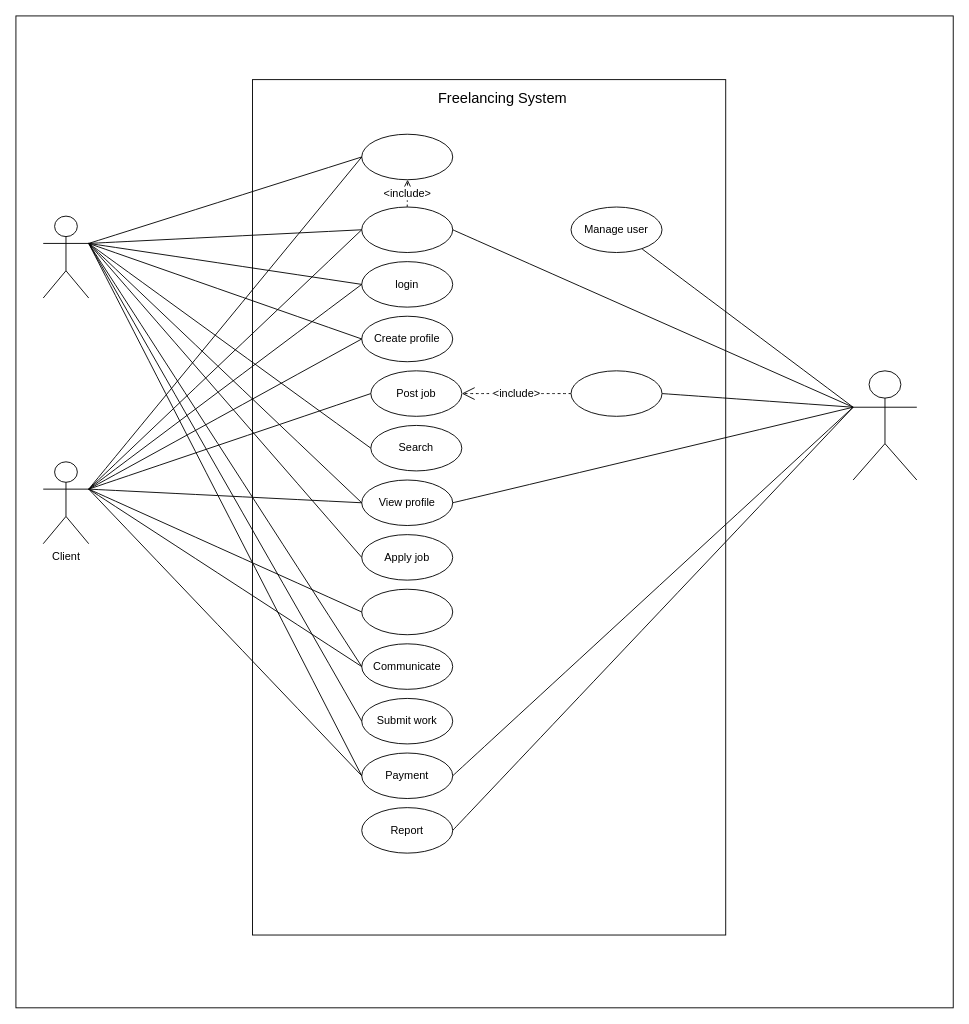
This 969x1024 diagram has some shape labels left out. Each missing label, with the centre of its shape:
"Admin" goes at [884,425].
"Freelancer" goes at [65,256].
"Hire freelancer" goes at [407,611].
"Register" goes at [407,156].
"Review post" goes at [616,393].
"verification" goes at [407,229].
